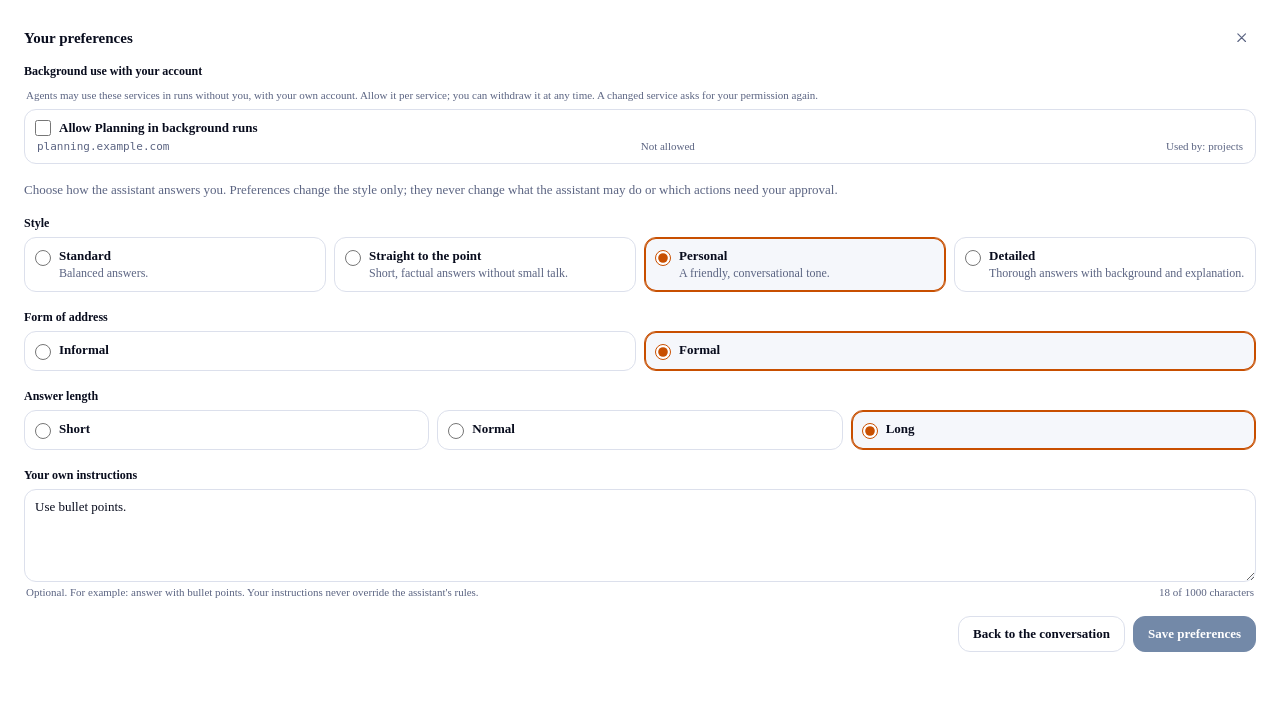
NhAssistantPreferencesComponent › allows and withdraws background use of a server with the user's own account
Expected: the element that starts with "Background use with your account" shows "planning.example.com", [37, 140, 170, 153]
Expected: the element that starts with "Background use with your account" shows "Not allowed", [641, 140, 695, 152]
Step 1. Click the checkbox labelled "Allow Planning in background runs" → point(43, 128), box [35, 120, 51, 136]
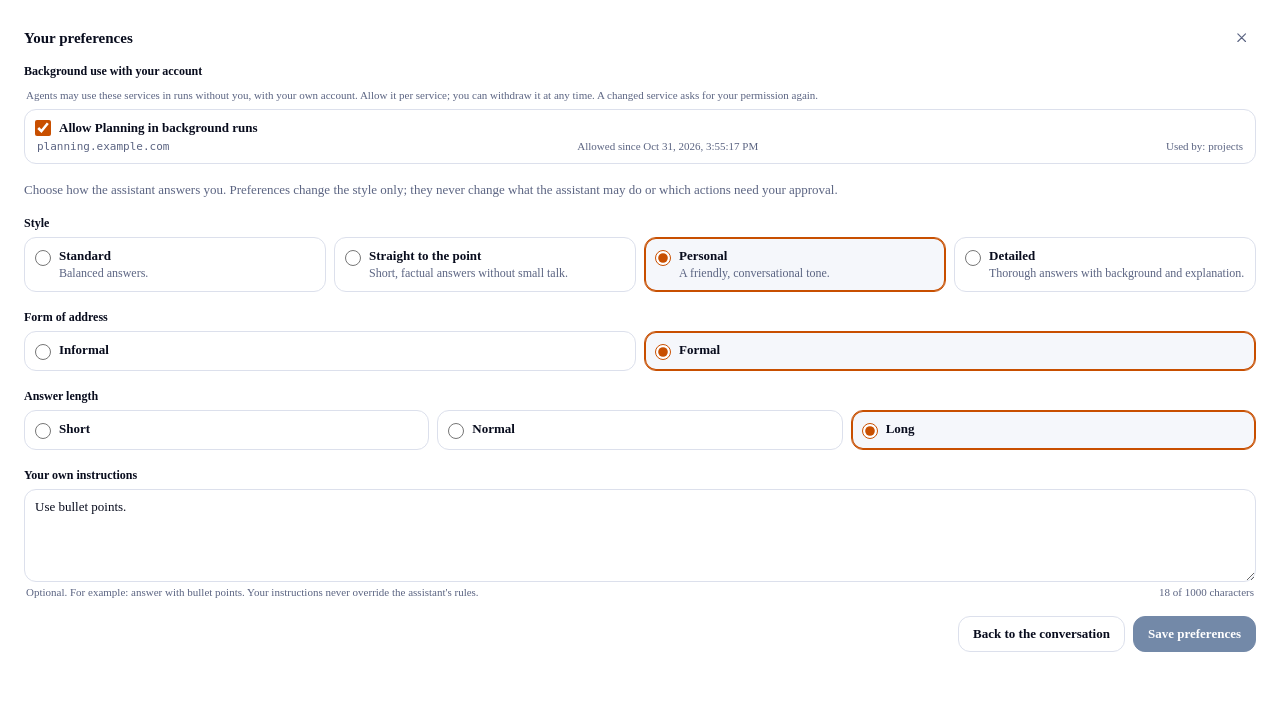
Expected: the element that starts with "Background use with your account" shows "Allowed since", [577, 140, 758, 152]
Step 2. Click the checkbox labelled "Allow Planning in background runs" → point(43, 128), box [35, 120, 51, 136]
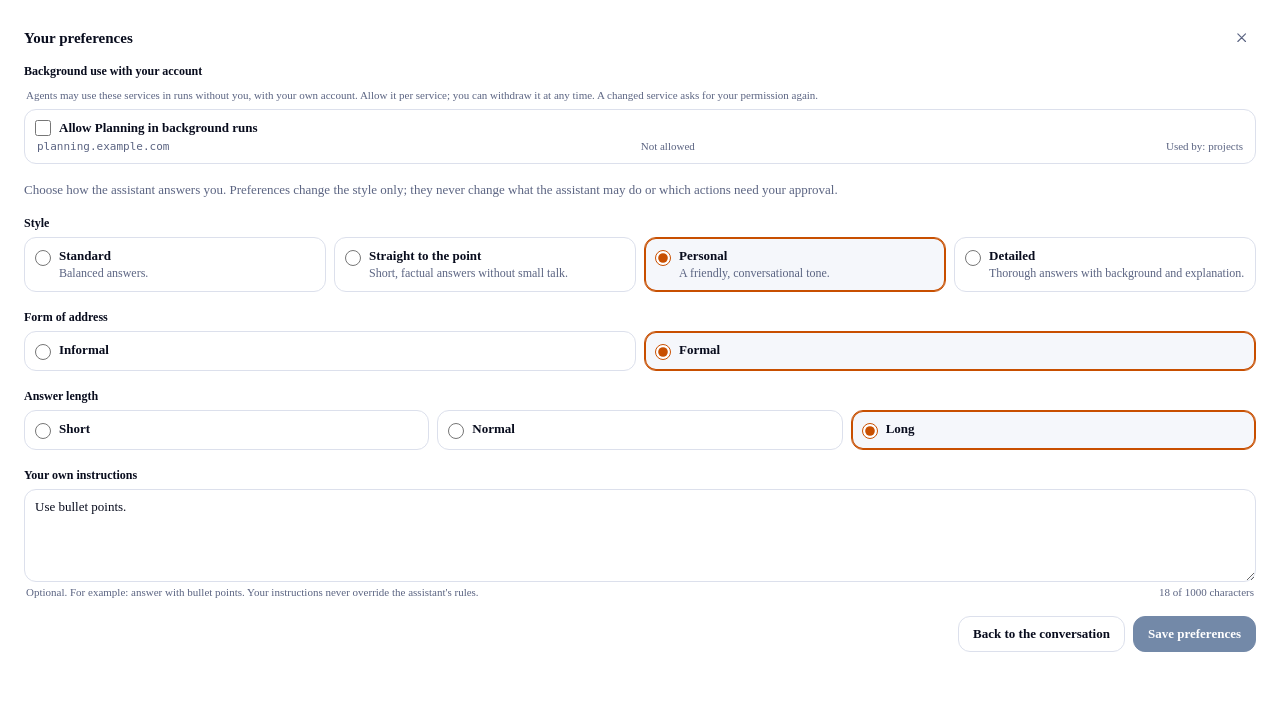
Expected: the element that starts with "Background use with your account" shows "Not allowed", [641, 140, 695, 152]
